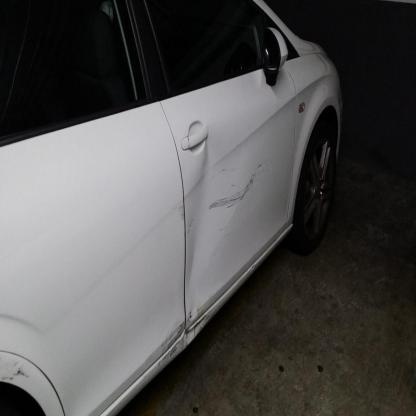door: (1, 67, 296, 416)
